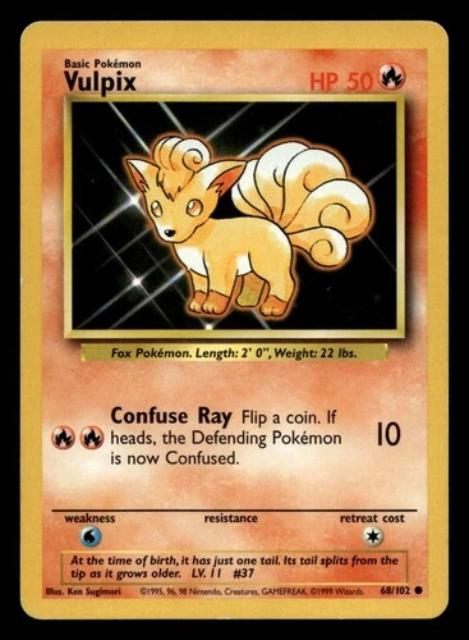Card: (15, 15, 451, 622)
Name: (55, 67, 141, 95)
